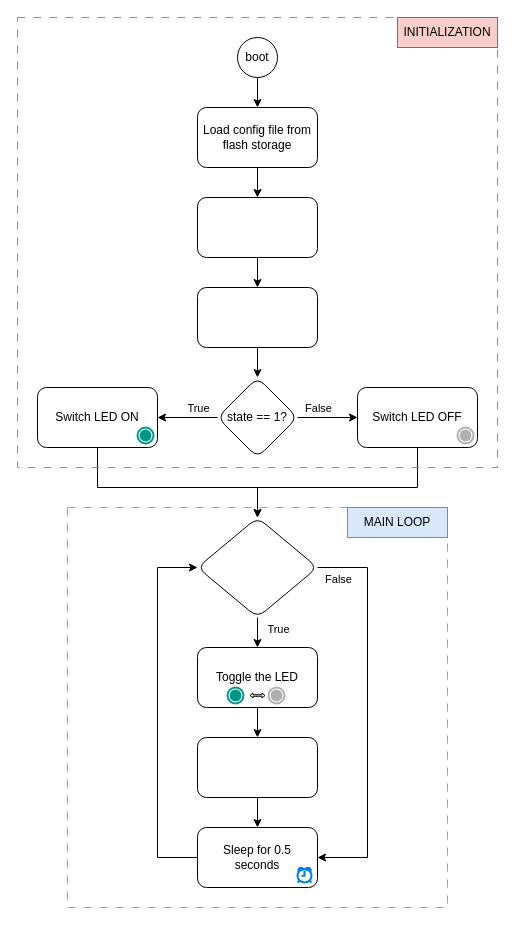
Image size: 515x925. Some labels were removed from this diagram. The shapes that lost their labels are listed below. From the top down, each one's centre as x and y in pixels, then its label:
the point at 257,227: Initialize LED and button
the point at 257,317: Load the LED's previous state from the config file
the point at 257,567: Is the button pressed?
the point at 257,767: Save new LED state to config file
